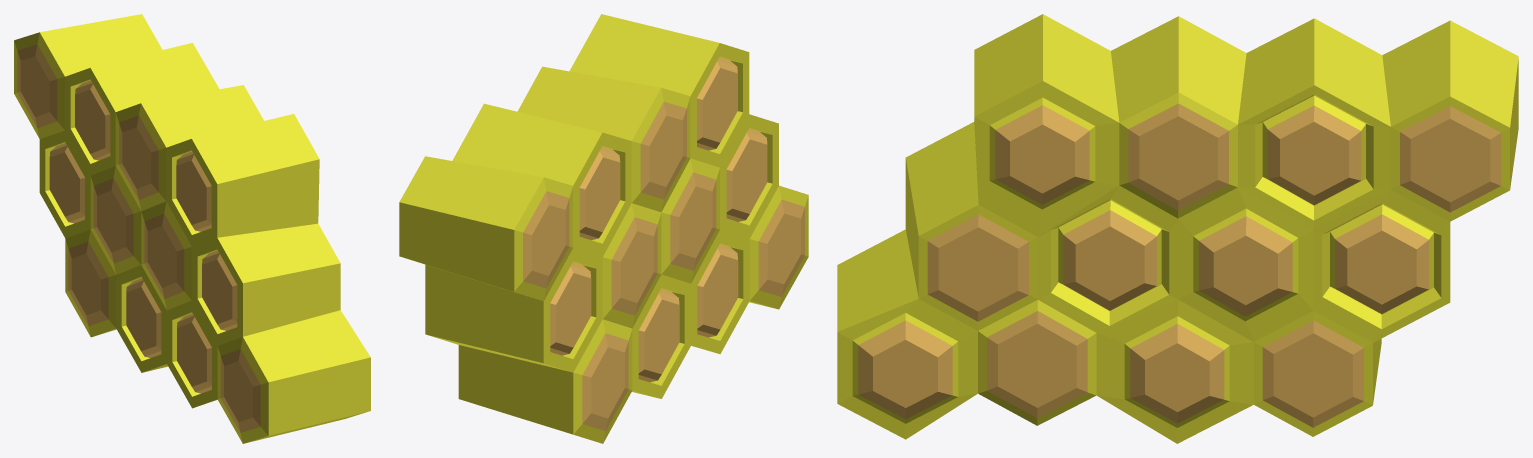
File: HoneyComb4_3.fbx
The picture shows the model from 3 angles, left to right: view 1: azimuth 30°, elevation 25°; view 2: azimuth 150°, elevation 25°; view 3: azimuth 270°, elevation 25°; orthographic projection. The views are drawn at different scales.
Parts seen in each view (by area): view 1: HoneyComb4*3; view 2: HoneyComb4*3; view 3: HoneyComb4*3.
Boxes of the visible parts, x1,y1,x2,y2 form: HoneyComb4*3: (14,14,370,443); HoneyComb4*3: (399,14,808,443); HoneyComb4*3: (837,14,1518,443).
Size of the model in its own units: 1231 by 2771 by 4686.
